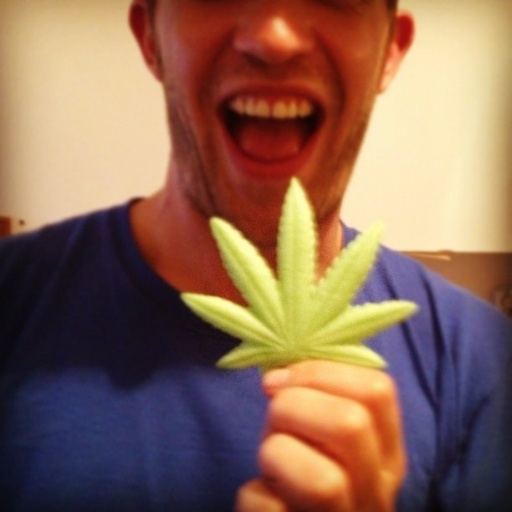hand: (241, 364, 389, 496)
